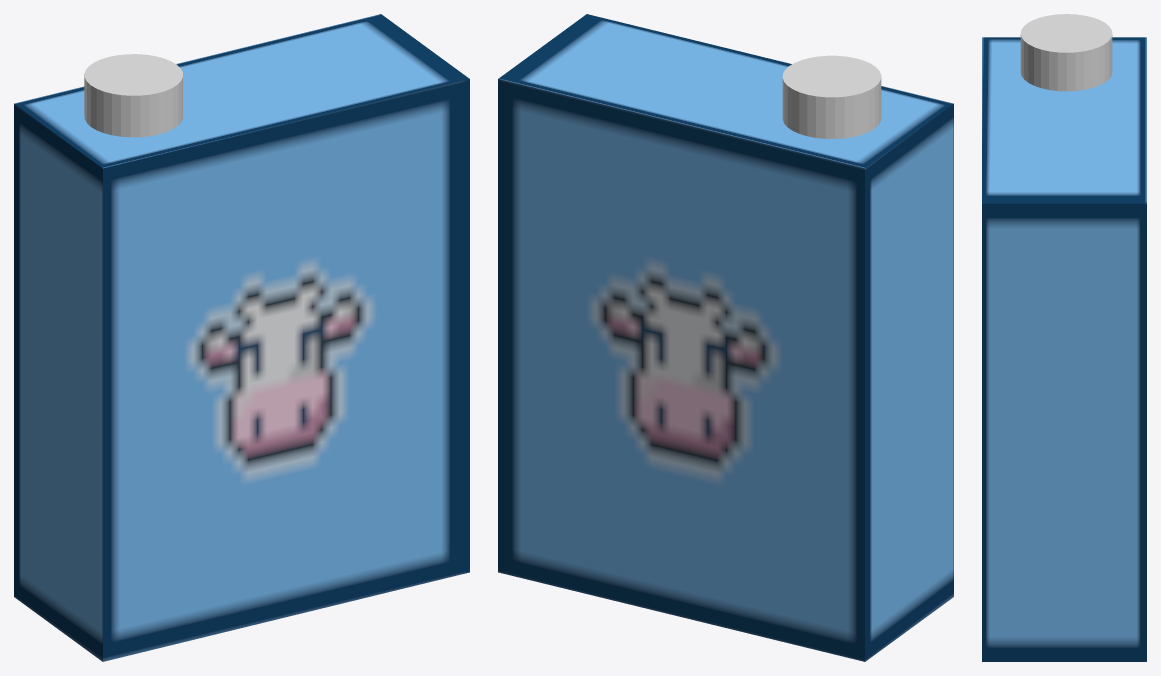
Rendered from Milk.fbx.
3 views of the same model, side by side, from view 1: azimuth 30°, elevation 25°; view 2: azimuth 150°, elevation 25°; view 3: azimuth 270°, elevation 25° (orthographic). The views are drawn at different scales.
Visible parts, largest first — view 1: Cube.013, Cylinder.002; view 2: Cube.013, Cylinder.002; view 3: Cube.013, Cylinder.002.
Part boxes in pixels (<box>): Cube.013: <box>14,14,469,661</box>; Cylinder.002: <box>84,54,182,137</box>; Cube.013: <box>498,14,953,661</box>; Cylinder.002: <box>782,55,881,138</box>; Cube.013: <box>982,37,1146,661</box>; Cylinder.002: <box>1020,14,1112,91</box>.
Bounding box in the file's own units: 71.02 × 98.94 × 29.73.
Materials: 1 (1 with a texture image).
